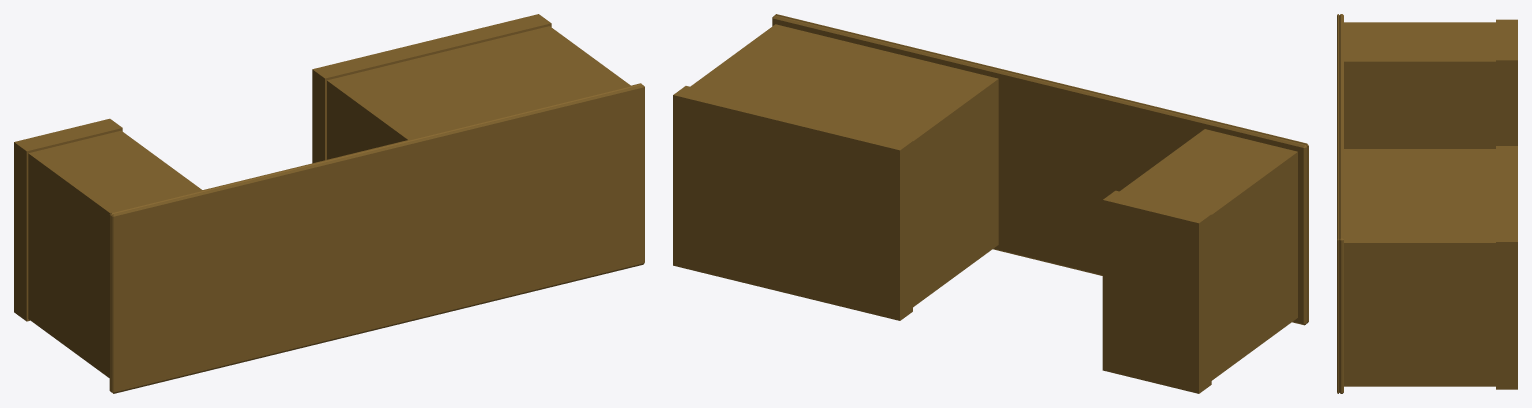
Rendered from DeskmeshDesk_313_0.obj.
3 renders of one model, left to right at view 1: azimuth 30°, elevation 25°; view 2: azimuth 150°, elevation 25°; view 3: azimuth 270°, elevation 25°, orthographic. The views are drawn at different scales.
Visible parts, largest first — view 1: Desk_313; view 2: Desk_313; view 3: Desk_313.
Boxes of the visible parts, box(x1,y1,x2,y2) form: Desk_313: box(14, 14, 644, 393); Desk_313: box(673, 14, 1308, 393); Desk_313: box(1337, 14, 1517, 393).
Bounding box in the file's own units: 2.04 × 0.6575 × 0.6924.
